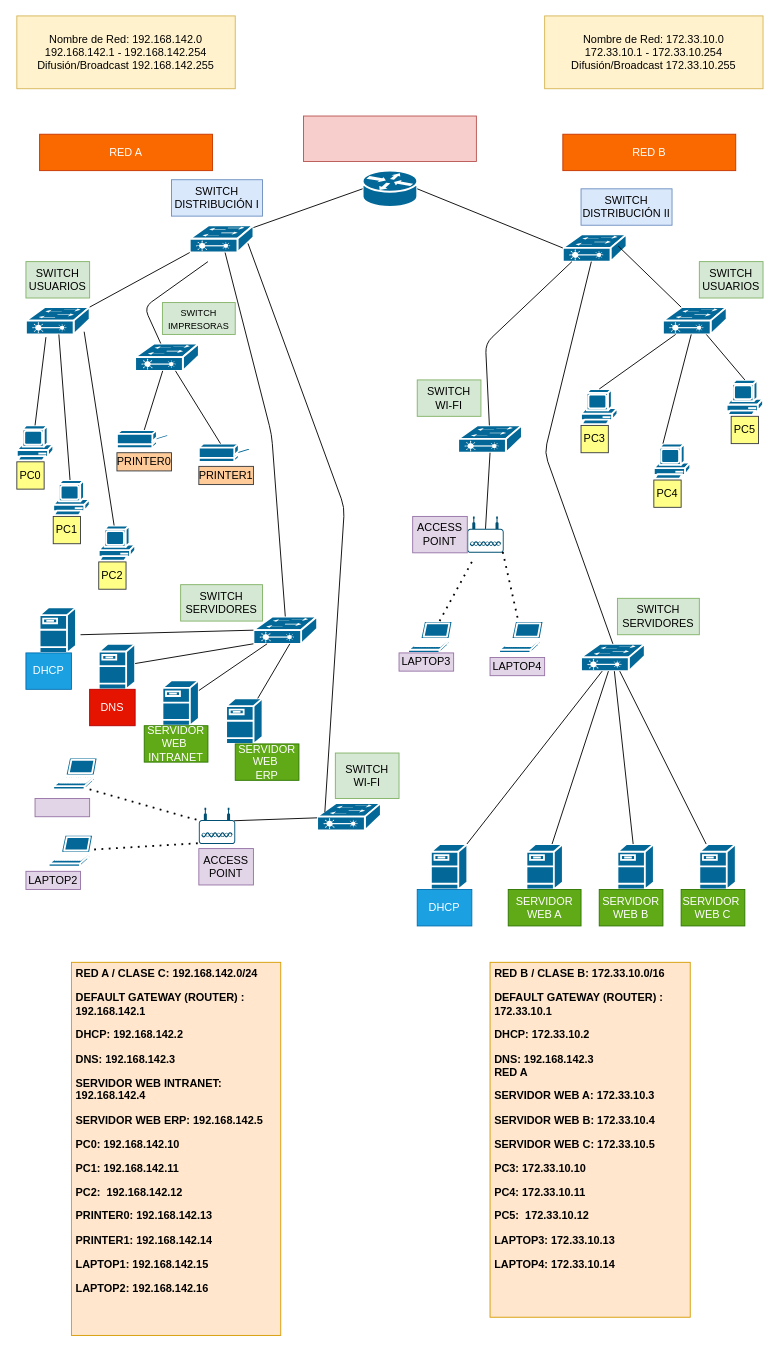
Image size: 779x1351. Some labels were removed from this diagram. The centre of each missing label's shape, as x and y in pixels:
LAPTOP1: (x=62, y=807)
ROUTER: (x=389, y=138)
